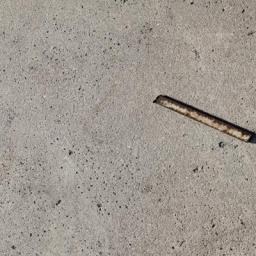FOD: (152, 90, 256, 148)
